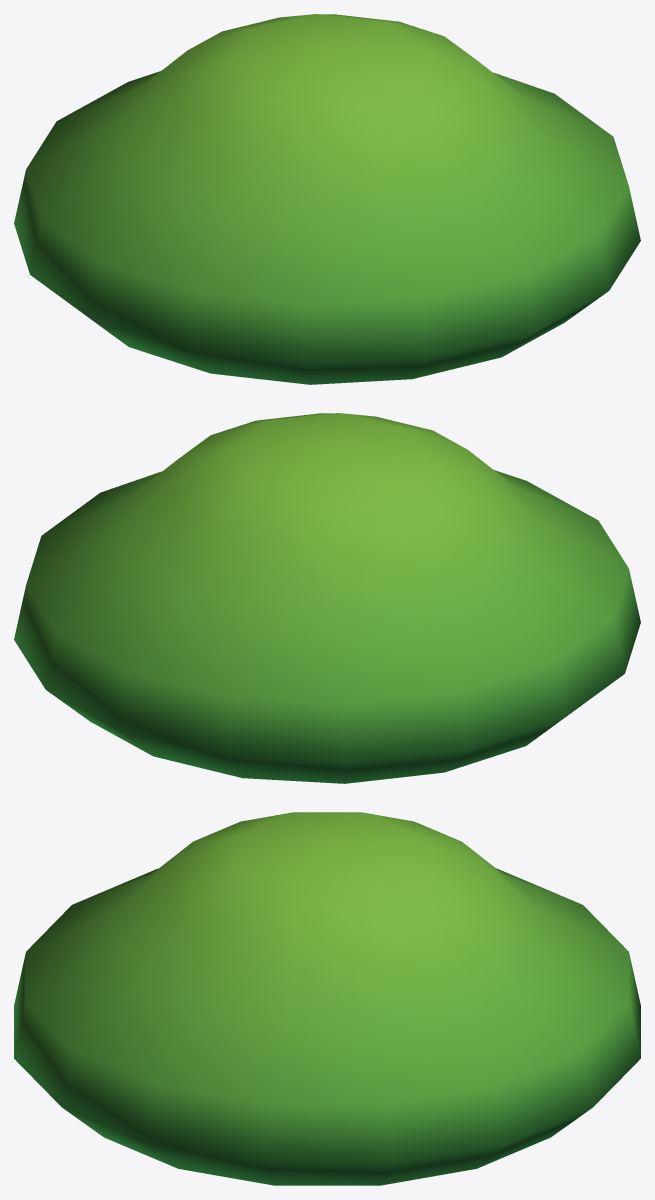
The model's file is Bush_3_A_Color1.glb.
3 views of the same model, one above another, from view 1: azimuth 30°, elevation 25°; view 2: azimuth 150°, elevation 25°; view 3: azimuth 270°, elevation 25° (orthographic).
Visible parts, largest first — view 1: Bush_3_A_Color1; view 2: Bush_3_A_Color1; view 3: Bush_3_A_Color1.
Boxes of the visible parts, <box> form: Bush_3_A_Color1: <box>14,14,640,384</box>; Bush_3_A_Color1: <box>14,413,640,783</box>; Bush_3_A_Color1: <box>14,812,640,1185</box>.
Bounding box in the file's own units: 1.03 × 0.4853 × 1.03.
1 material, 1 textured.
